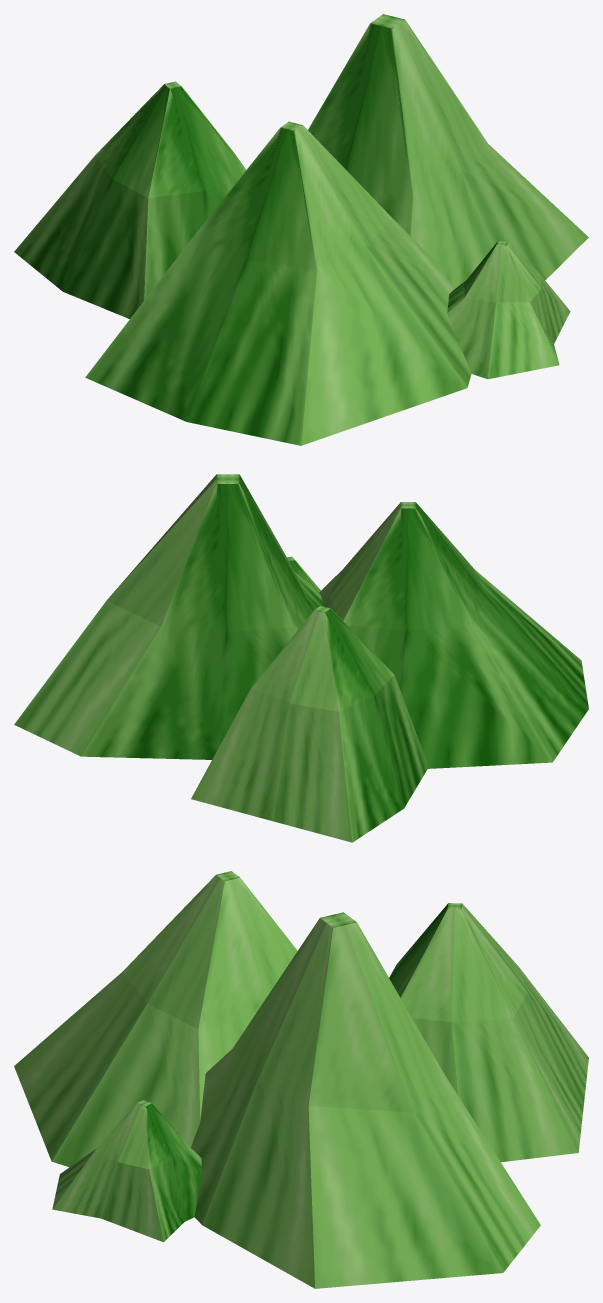
File: Poly_World_Map_Mountain_Green_01.obj
The picture shows the model from 3 angles, top to bottom: view 1: azimuth 30°, elevation 25°; view 2: azimuth 150°, elevation 25°; view 3: azimuth 270°, elevation 25°; orthographic projection. The views are drawn at different scales.
Visible parts, largest first — view 1: Cube.001_Cube.002, Cube.002_Cube.003, Cube_Cube.001, Cube.003_Cube.004; view 2: Cube.002_Cube.003, Cube.001_Cube.002, Cube_Cube.001; view 3: Cube.002_Cube.003, Cube.001_Cube.002, Cube_Cube.001, Cube.003_Cube.004.
Part boxes in pixels (x1,y1,x2,y2): Cube.001_Cube.002: (85, 121, 471, 445); Cube.002_Cube.003: (308, 14, 588, 289); Cube_Cube.001: (14, 81, 245, 318); Cube.003_Cube.004: (447, 241, 570, 379); Cube.002_Cube.003: (14, 474, 322, 759); Cube.001_Cube.002: (319, 502, 588, 768); Cube_Cube.001: (191, 606, 427, 842); Cube.002_Cube.003: (191, 912, 540, 1288); Cube.001_Cube.002: (14, 871, 297, 1167); Cube_Cube.001: (389, 903, 588, 1162); Cube.003_Cube.004: (52, 1100, 201, 1242).
Size of the model in its own units: 1.7 by 0.7921 by 1.53.
1 material, 1 textured.
